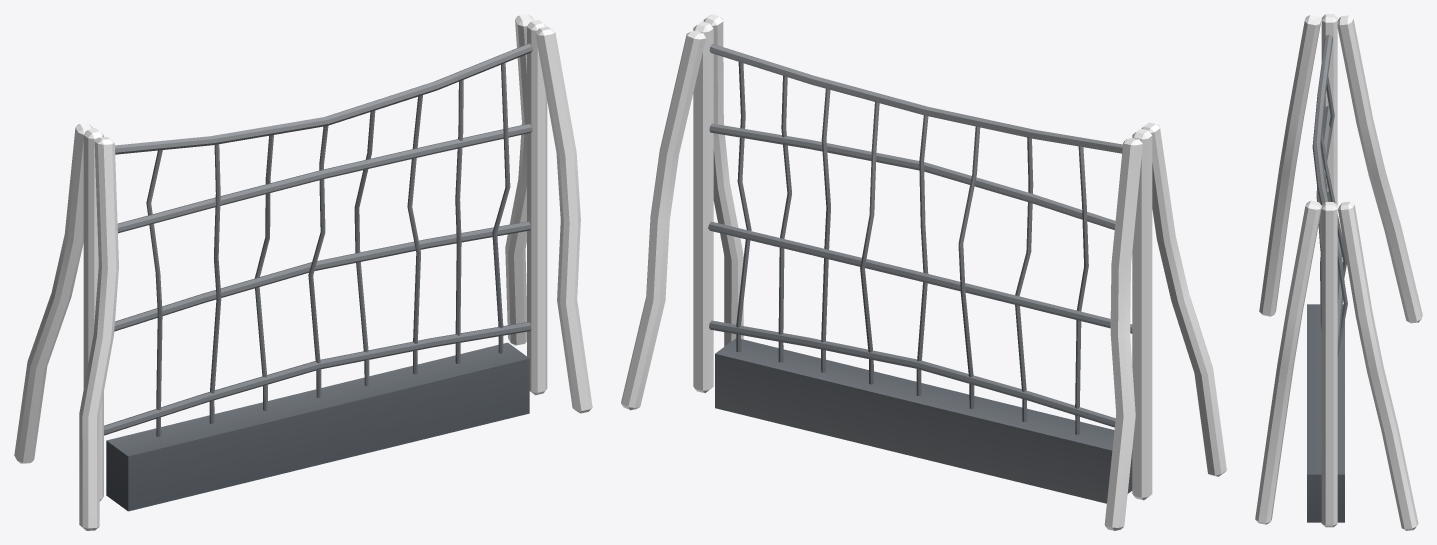
File: valla1.fbx
The picture shows the model from 3 angles, left to right: view 1: azimuth 30°, elevation 25°; view 2: azimuth 150°, elevation 25°; view 3: azimuth 270°, elevation 25°; orthographic projection. The views are drawn at different scales.
Parts seen in each view (by area): view 1: valla1; view 2: valla1; view 3: valla1.
Part boxes in pixels (box(x1,y1,x2,y2)): valla1: box(14, 14, 592, 530); valla1: box(621, 14, 1226, 530); valla1: box(1255, 14, 1422, 530).
Size of the model in its own units: 480 by 329 by 152.
